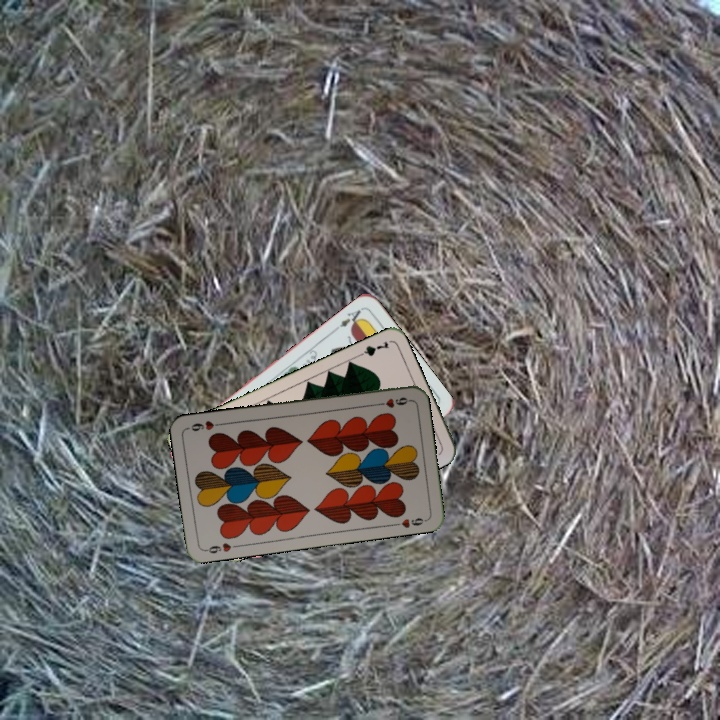EA: (330, 304, 366, 334)
G7: (352, 337, 392, 360)
H9: (201, 539, 242, 556), (372, 393, 412, 410)
